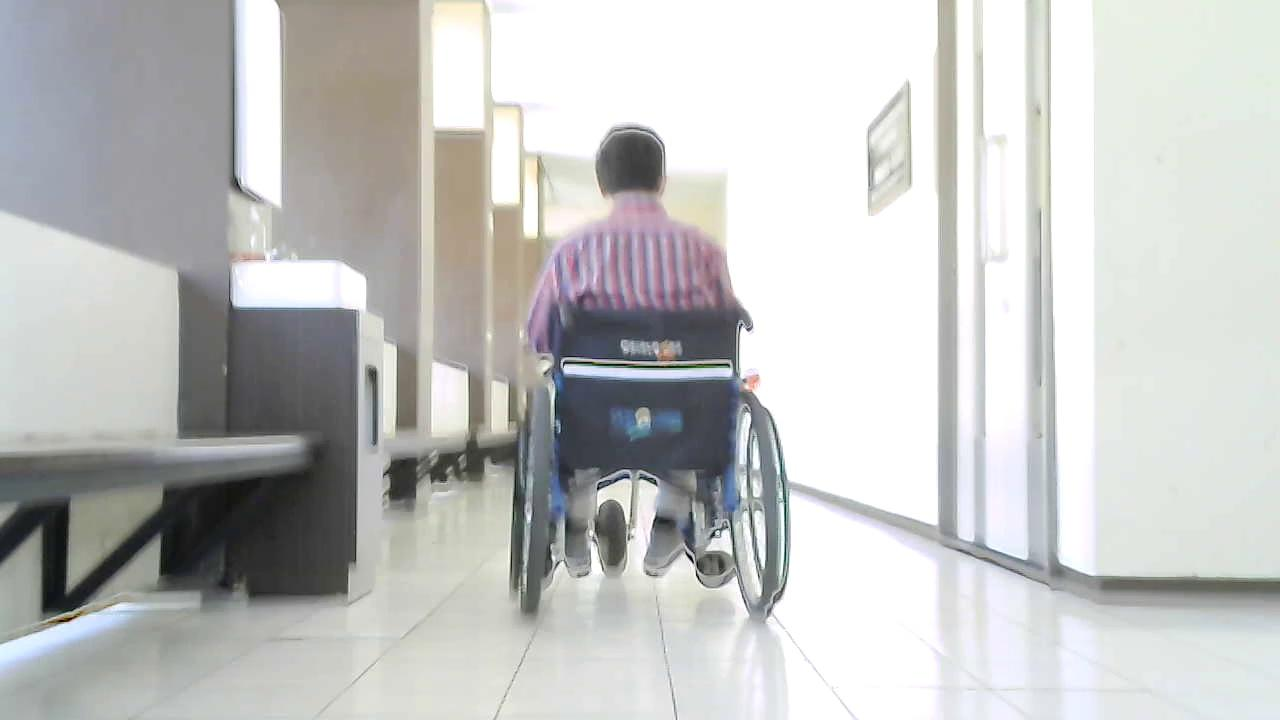wheelchair: (490, 289, 832, 641)
